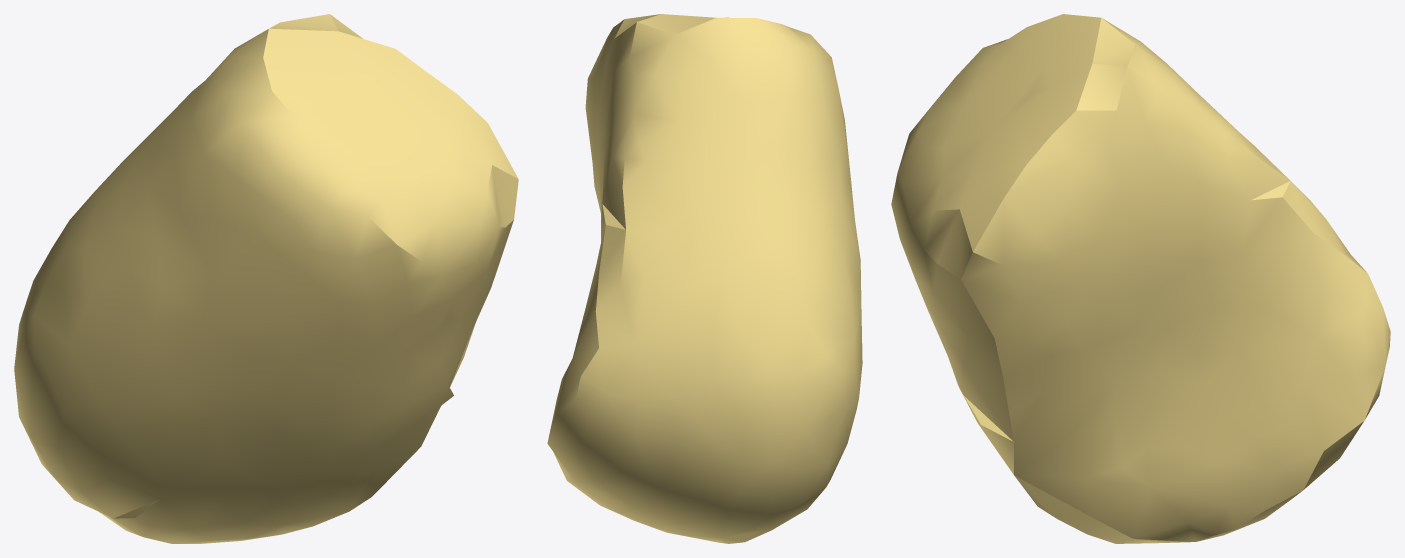
Rendered from fma73363_mm2846m.glb.
3 views of the same model, side by side, from view 1: azimuth 30°, elevation 25°; view 2: azimuth 150°, elevation 25°; view 3: azimuth 270°, elevation 25° (orthographic). The views are drawn at different scales.
Parts seen in each view (by area): view 1: FMA73363_MM2846M; view 2: FMA73363_MM2846M; view 3: FMA73363_MM2846M.
Part boxes in pixels (x1=…): FMA73363_MM2846M: x1=14, y1=14, x2=518, y2=543; FMA73363_MM2846M: x1=547, y1=14, x2=862, y2=543; FMA73363_MM2846M: x1=891, y1=14, x2=1390, y2=543.
Size of the model in its own units: 0.00415 by 0.00559 by 0.00488.
